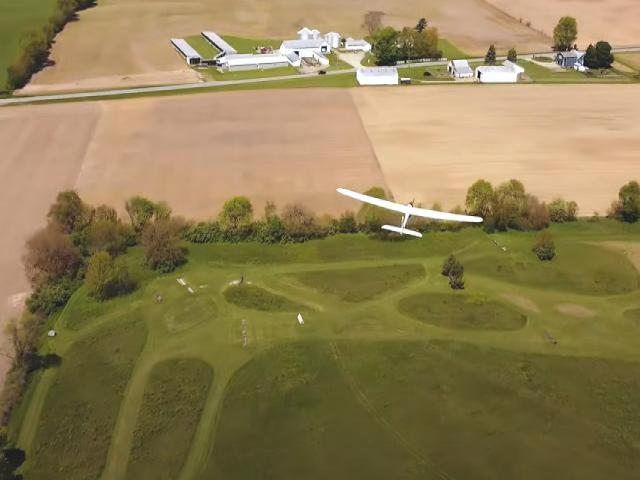iha: (338, 186, 485, 240)
